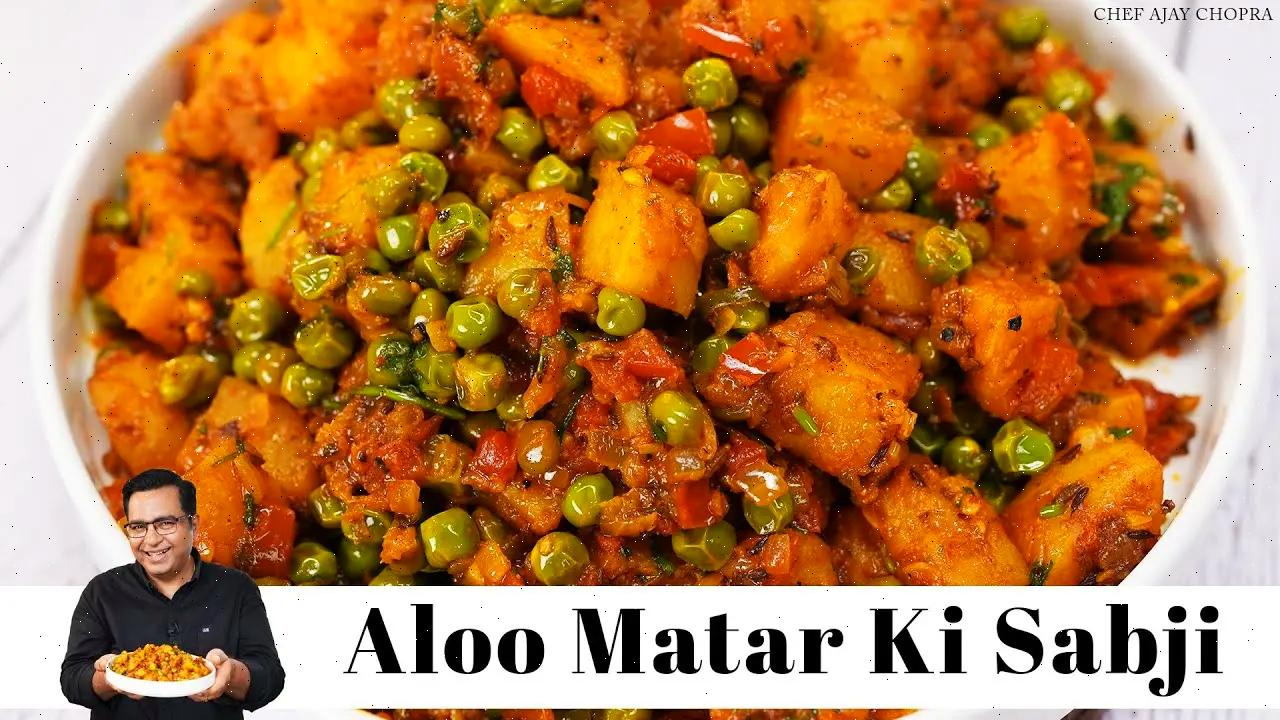aloo sabji: (127, 11, 1201, 610)
